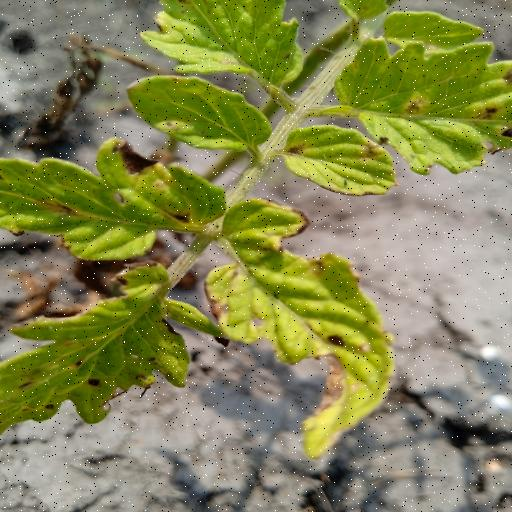Tomato_Brown_Spots: (206, 196, 402, 458), (0, 259, 231, 432), (0, 135, 231, 264), (332, 30, 512, 172), (134, 0, 307, 91), (122, 70, 273, 155), (280, 124, 402, 196)
